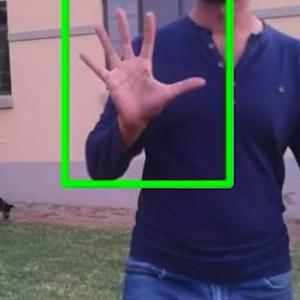follow_hand: (73, 3, 206, 125)
